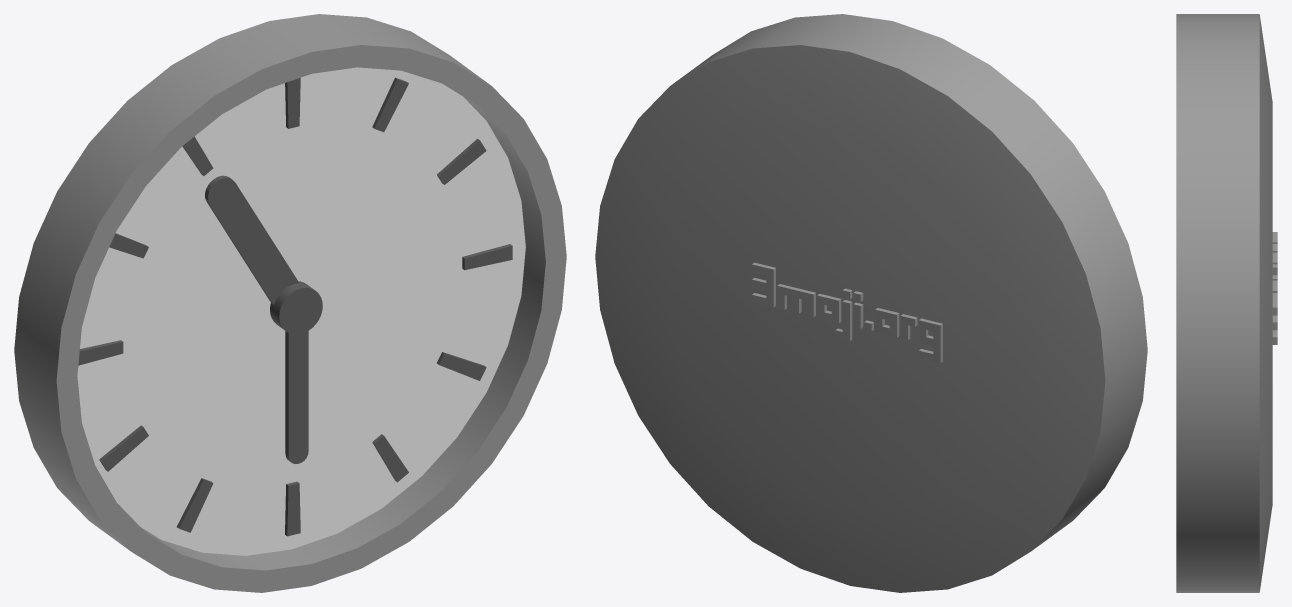
The model's file is eleven_thirty.fbx.
The picture shows the model from 3 angles, left to right: view 1: azimuth 30°, elevation 25°; view 2: azimuth 150°, elevation 25°; view 3: azimuth 270°, elevation 25°; orthographic projection.
Parts seen in each view (by area): view 1: Circle.2498; view 2: Circle.2498; view 3: Circle.2498.
Boxes of the visible parts, x1,y1,x2,y2 form: Circle.2498: (14, 14, 566, 592); Circle.2498: (595, 14, 1147, 592); Circle.2498: (1176, 14, 1277, 592).
Size of the model in its own units: 233 by 233 by 40.69.
1 material, 1 textured.
